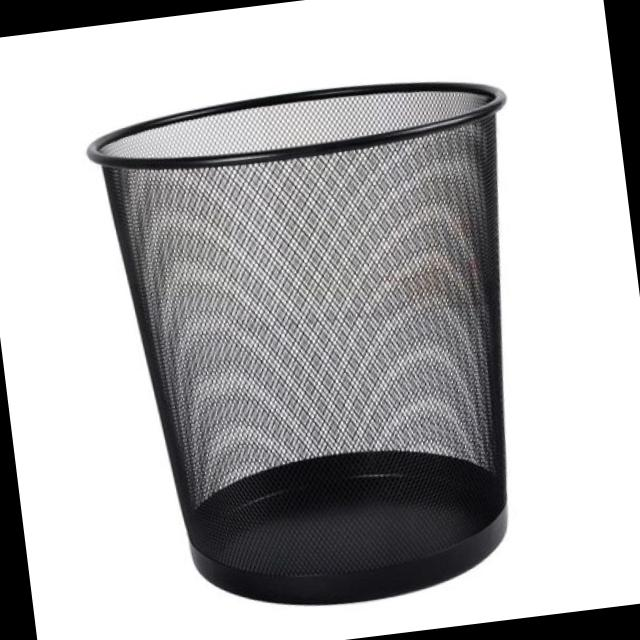dustbin: (72, 59, 570, 634)
